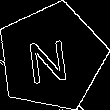N_N: (28, 29, 75, 85)
